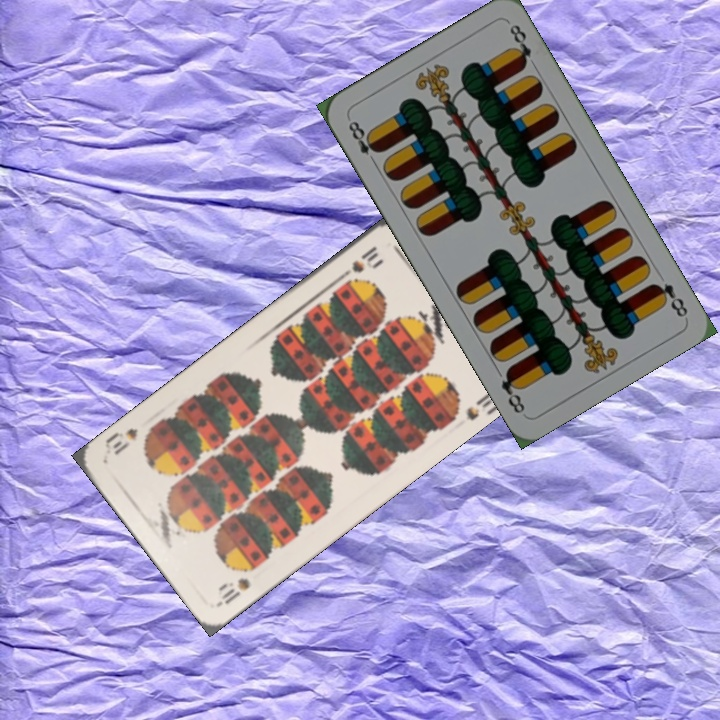E8: (344, 116, 383, 168), (648, 279, 691, 320)
S10: (333, 241, 385, 284), (215, 573, 253, 608)
